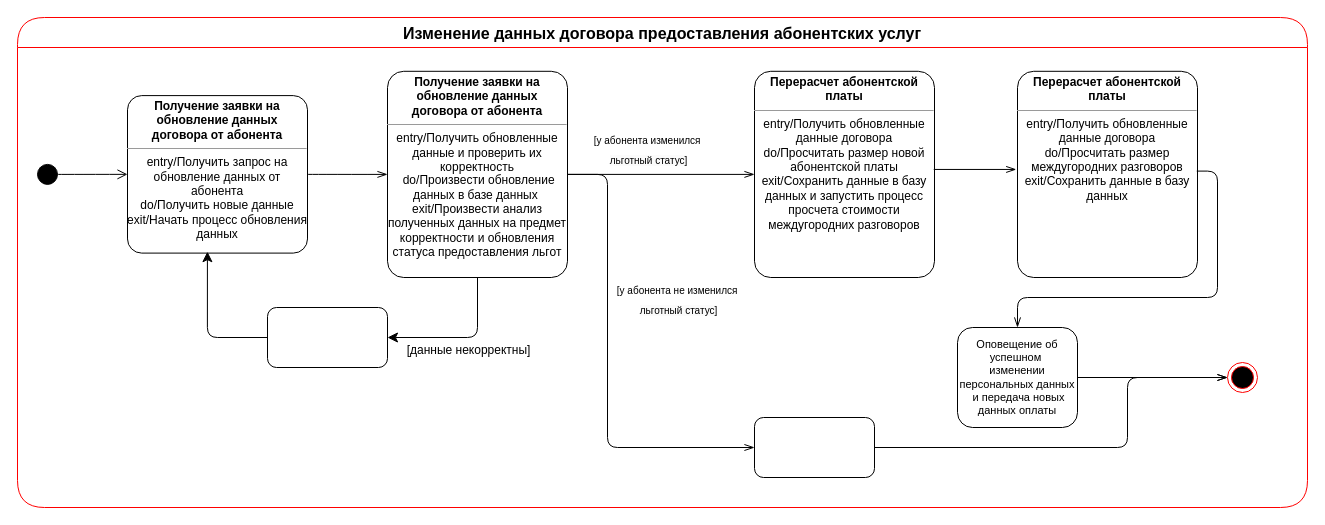
This 1325x525 diagram has some shape labels left out. The shapes that lost their labels are listed below. From the top down, each one's box as (x1, y1, x2, y2) in pixels, then its label:
(266, 306, 388, 368): Передача запроса абоненту на предоставления исправленных данных
(754, 416, 874, 478): Оповещение об успешном изменении персональных данных
